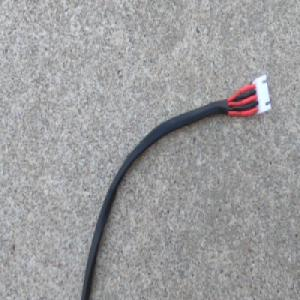Wire: (80, 72, 272, 300)
